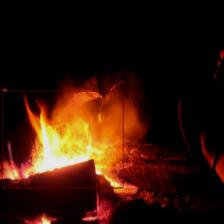fire: (3, 91, 123, 188)
